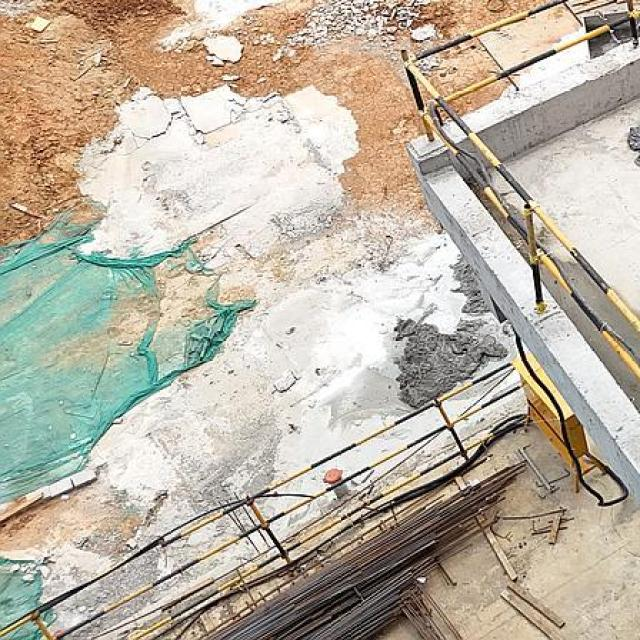edge_guardrail: (0, 358, 528, 640), (398, 0, 640, 385)
